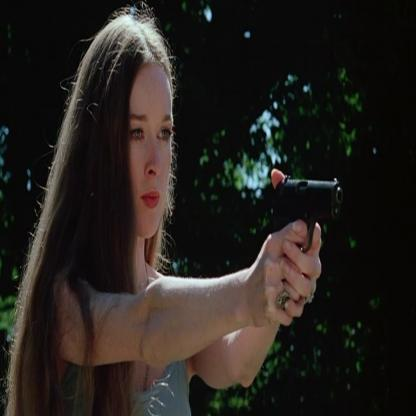gun: (270, 158, 343, 308)
